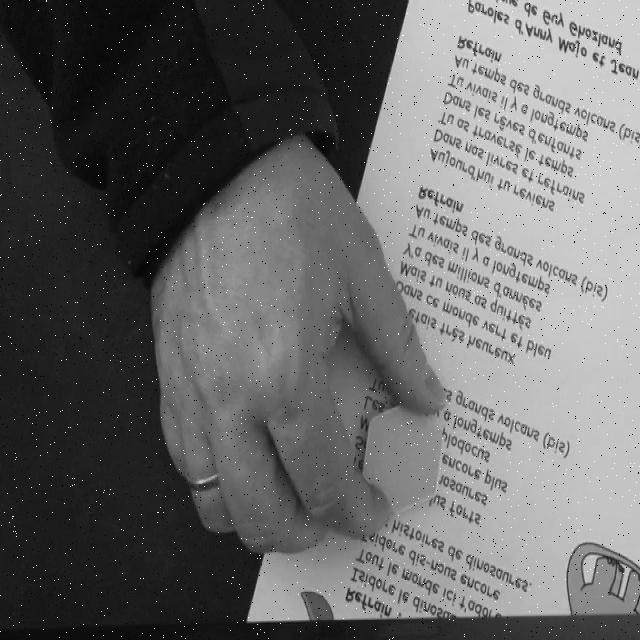hexagon: (358, 399, 447, 521)
